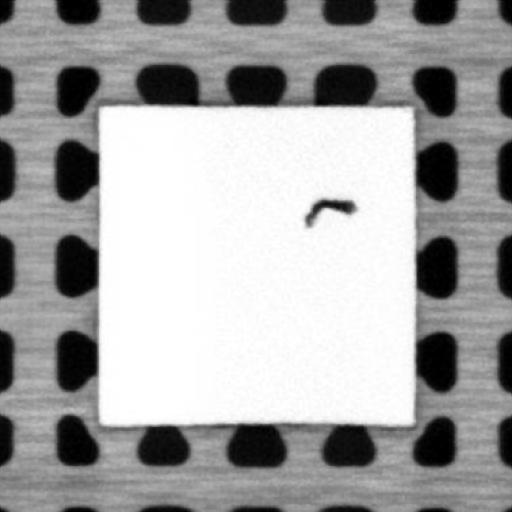DIE_INK: (301, 196, 356, 225)
